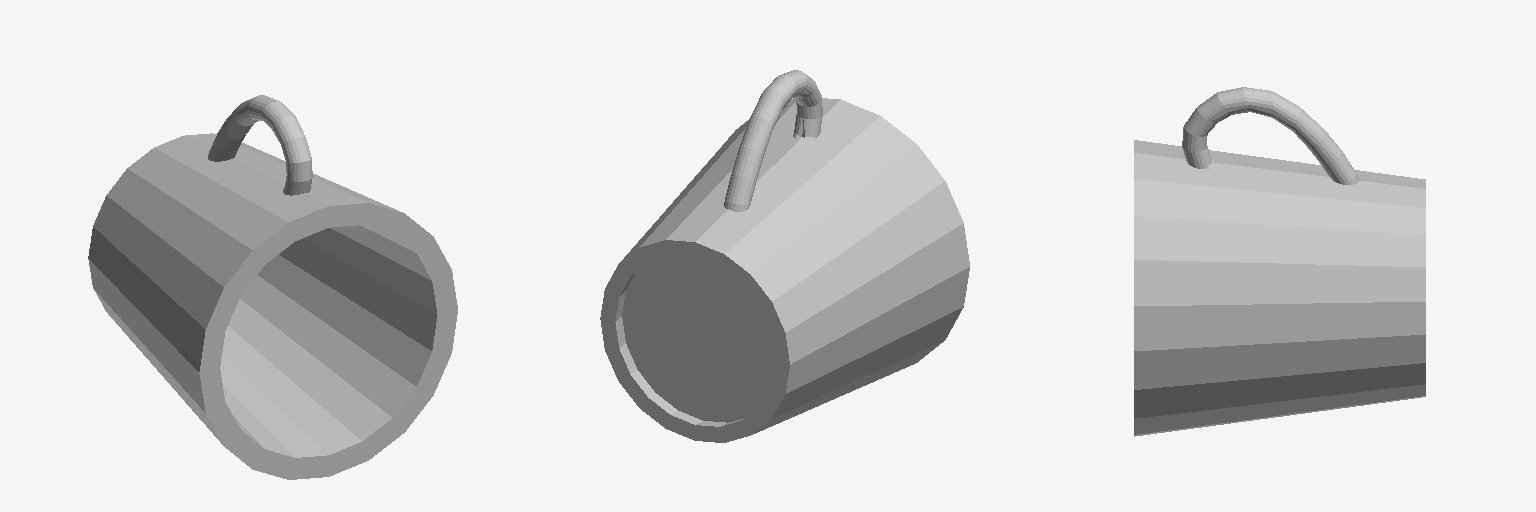
File: mug.obj
3 renders of one model, left to right at view 1: azimuth 30°, elevation 25°; view 2: azimuth 150°, elevation 25°; view 3: azimuth 270°, elevation 25°, orthographic.
Parts seen in each view (by area): view 1: mug.obj_1, mug.obj_2; view 2: mug.obj_1, mug.obj_3, mug.obj_2, mug.obj_4; view 3: mug.obj_1, mug.obj_2.
Boxes of the visible parts, x1=… form: mug.obj_1: x1=88, y1=133, x2=457, y2=479; mug.obj_2: x1=208, y1=95, x2=312, y2=195; mug.obj_1: x1=600, y1=98, x2=969, y2=442; mug.obj_3: x1=622, y1=256, x2=774, y2=422; mug.obj_2: x1=724, y1=70, x2=822, y2=211; mug.obj_4: x1=622, y1=257, x2=773, y2=421; mug.obj_1: x1=1134, y1=140, x2=1425, y2=436; mug.obj_2: x1=1182, y1=87, x2=1358, y2=184.
Size of the model in its own units: 73.9 by 91.5 by 72.02.